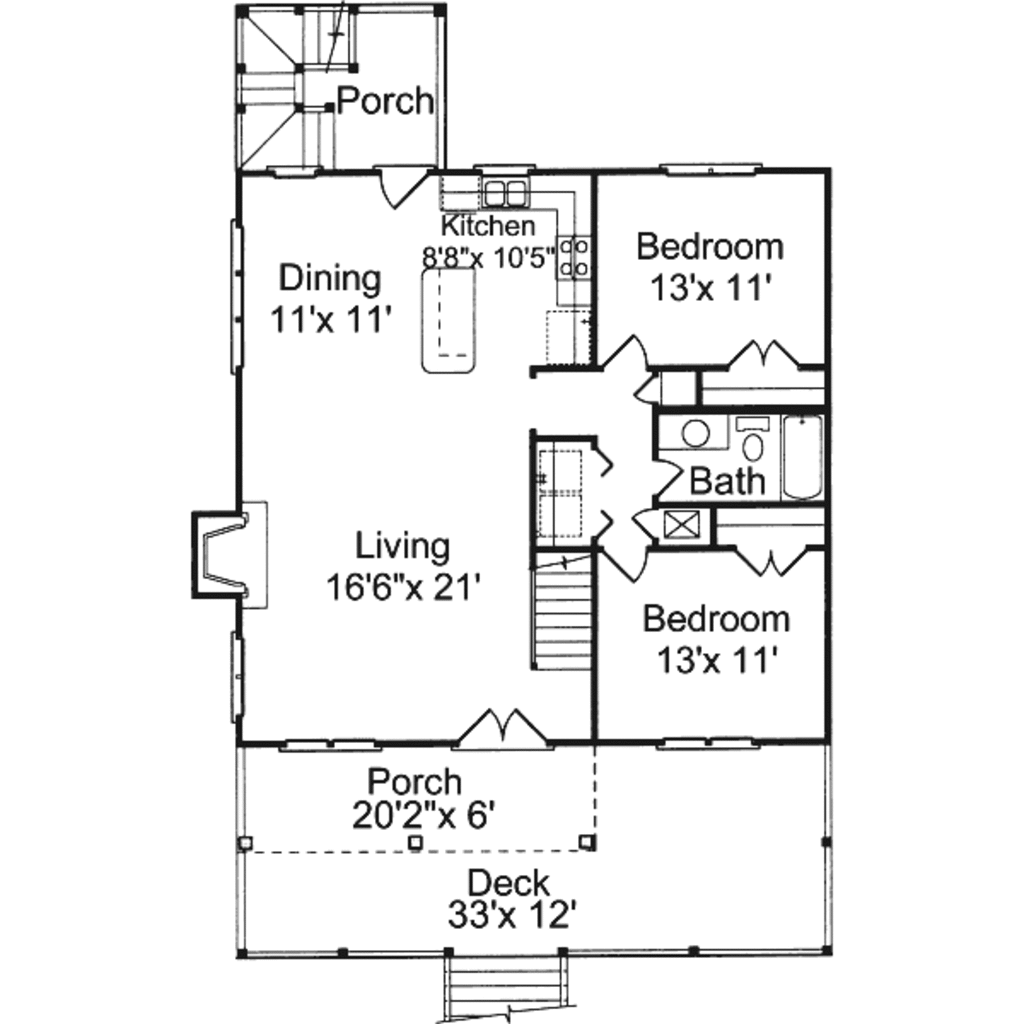door: (451, 706, 563, 755), (731, 541, 811, 584), (375, 160, 435, 213), (729, 337, 802, 374), (601, 541, 654, 582), (604, 332, 649, 374)
large_sink: (729, 409, 774, 461)
small_sink: (650, 412, 728, 455)
stairs: (238, 7, 358, 173), (440, 947, 568, 1024), (528, 543, 596, 672)
tub: (781, 417, 823, 508)
twin_sink: (476, 174, 531, 213)
windows: (225, 216, 248, 381), (661, 158, 765, 182)
